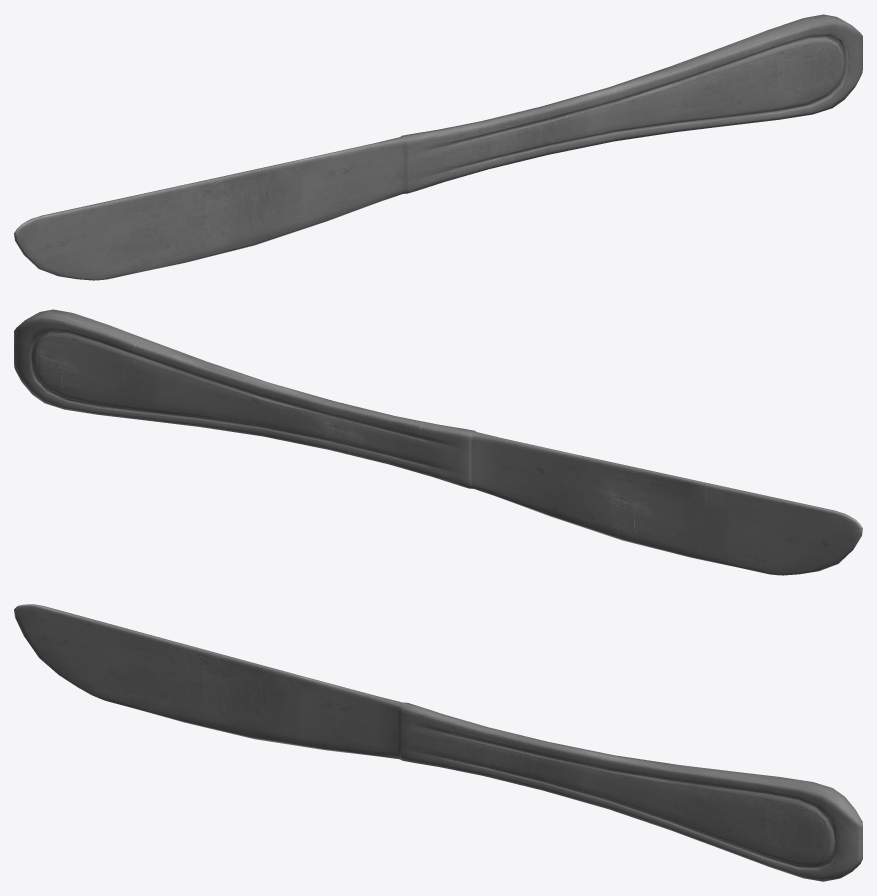
3 renders of one model, top to bottom at view 1: azimuth 30°, elevation 25°; view 2: azimuth 150°, elevation 25°; view 3: azimuth 330°, elevation 25°, orthographic.
Visible parts, largest first — view 1: Cube; view 2: Cube; view 3: Cube.
Part boxes in pixels (box(x1,y1,x2,y2)): Cube: box(14, 14, 862, 280); Cube: box(14, 309, 862, 575); Cube: box(14, 604, 862, 881).
Bounding box in the file's own units: 2 × 0.2059 × 0.0523.
1 material, 1 textured.
